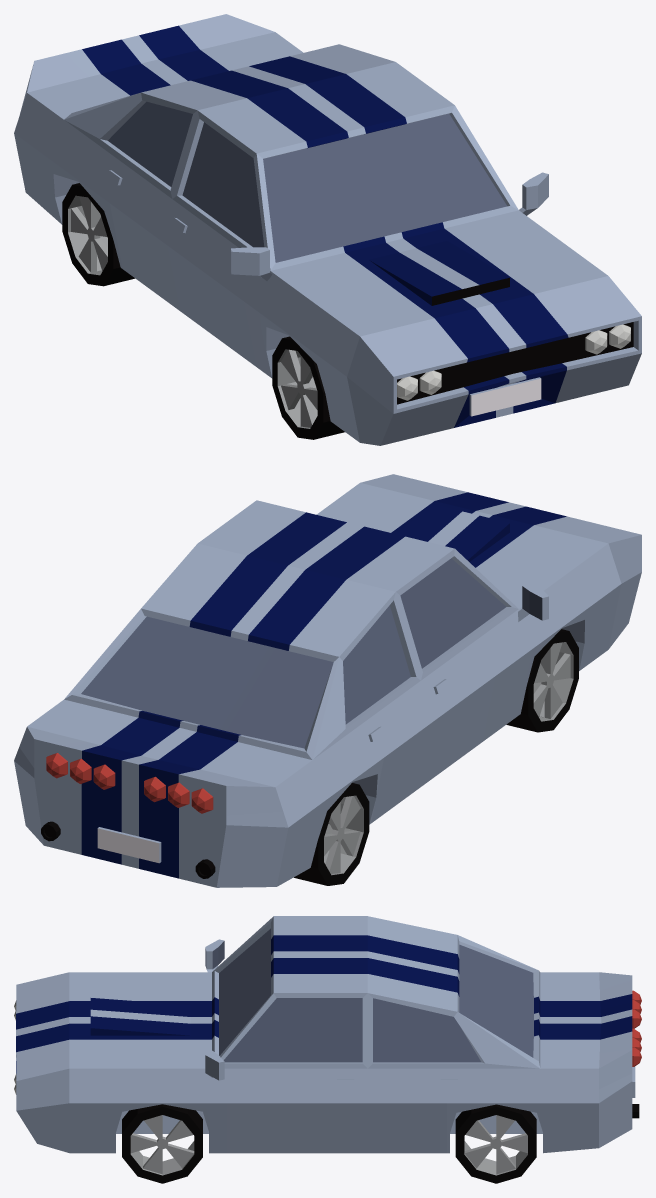
File: muscle_2.glb
The picture shows the model from 3 angles, top to bottom: view 1: azimuth 30°, elevation 25°; view 2: azimuth 150°, elevation 25°; view 3: azimuth 270°, elevation 25°; orthographic projection. The views are drawn at different scales.
Parts seen in each view (by area): view 1: paint, glass, wheel_fr, wheel_rr, headlights; view 2: paint, glass, wheel_fr, wheel_rr, taillights; view 3: paint, glass, wheel_fl, wheel_rl, taillights.
Boxes of the visible parts, x1,y1,x2,y2 form: paint: (14,14,641,445); glass: (108,101,507,262); wheel_fr: (272,336,344,439); wheel_rr: (62,183,134,286); headlights: (397,324,630,400); paint: (14,474,641,887); glass: (81,558,542,748); wheel_fr: (506,629,578,732); wheel_rr: (294,783,369,885); taillights: (46,753,213,813); paint: (16,916,639,1153); glass: (212,928,533,1062); wheel_fl: (122,1104,202,1183); wheel_rl: (455,1104,536,1183); taillights: (632,990,641,1066).
Size of the model in its own units: 1.76 by 1.19 by 3.78.
